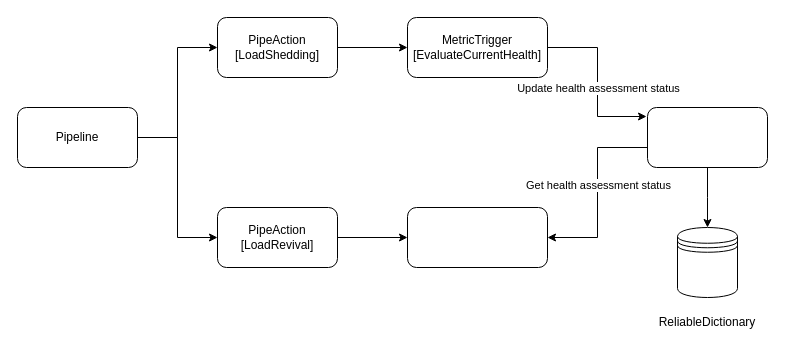
Some shapes in this 785 by 355 pixel diagram are drawn without their labels. Each missing label, with the centre of its shape:
MetricCacheManager: (707,137)
MetricTrigger [EvaluatePastHealth]: (477,237)
